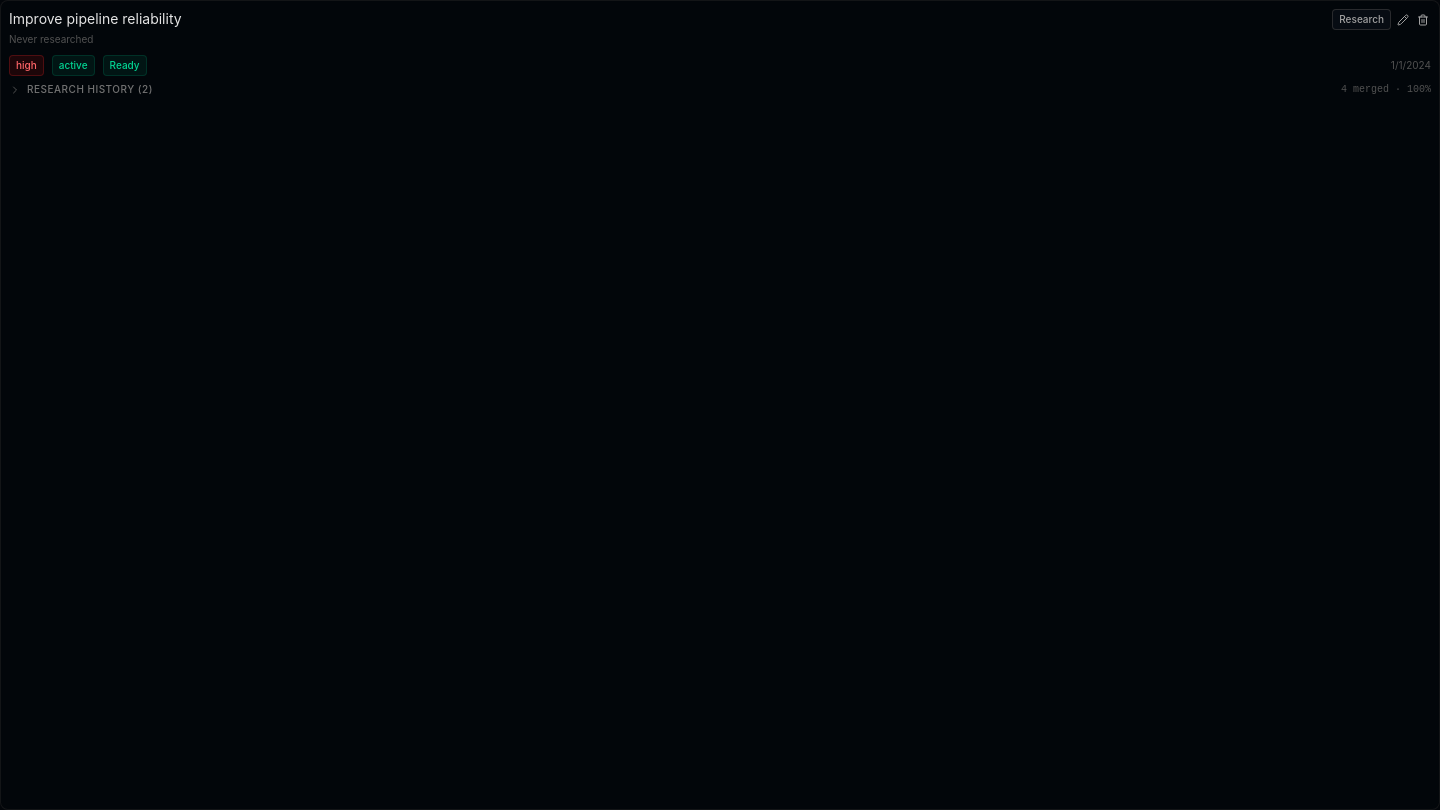
Scenario: DirectionCard per-cycle delta badge › shows green "+N vs prior" badge when latest cycle improved
The image size is (1440, 810).
Click the button "Research History (2) 4 merged · 100%". click: (85, 89)
box: x1=9 y1=82 x2=1431 y2=97
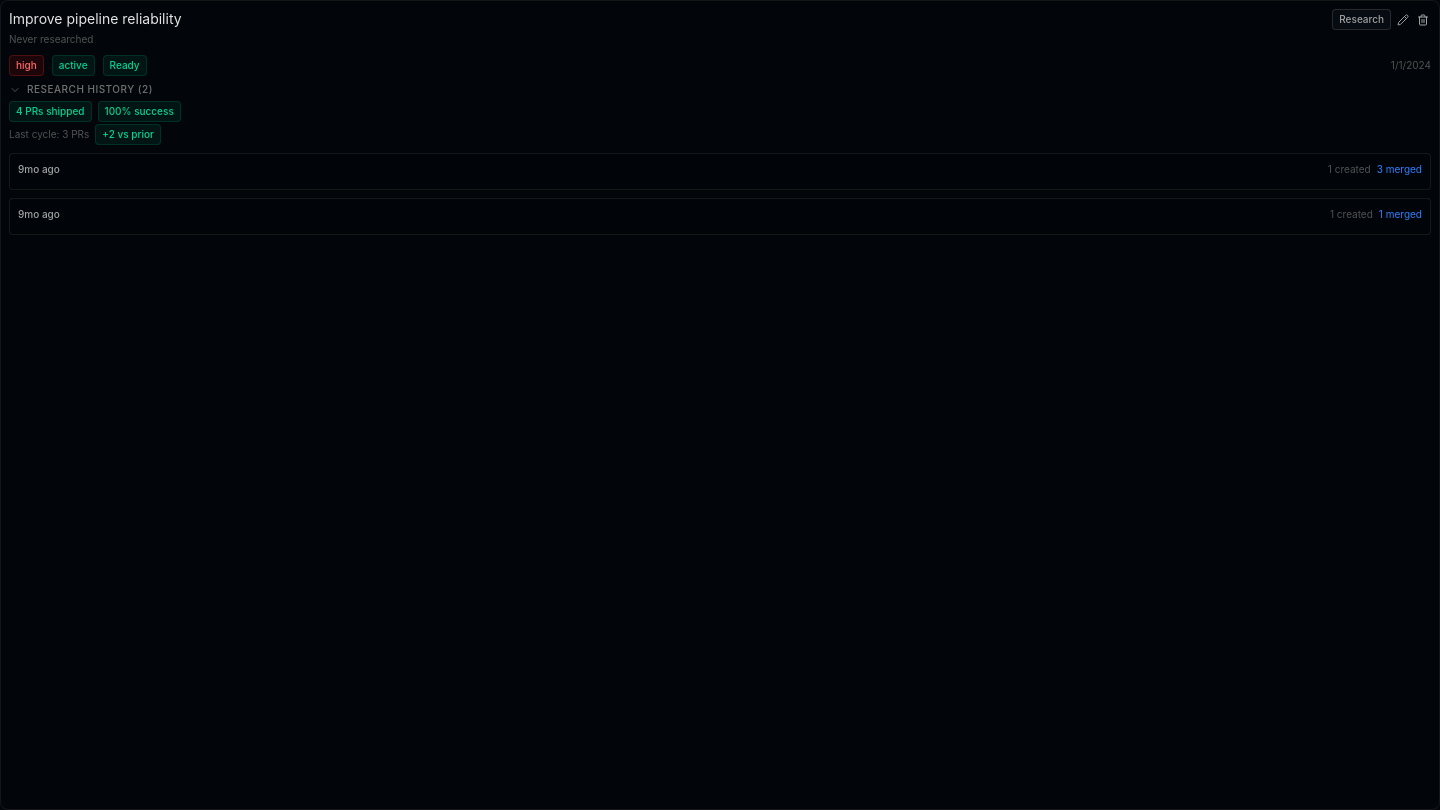
Now the text "+2 vs prior" is shown, box x1=95 y1=124 x2=161 y2=145
